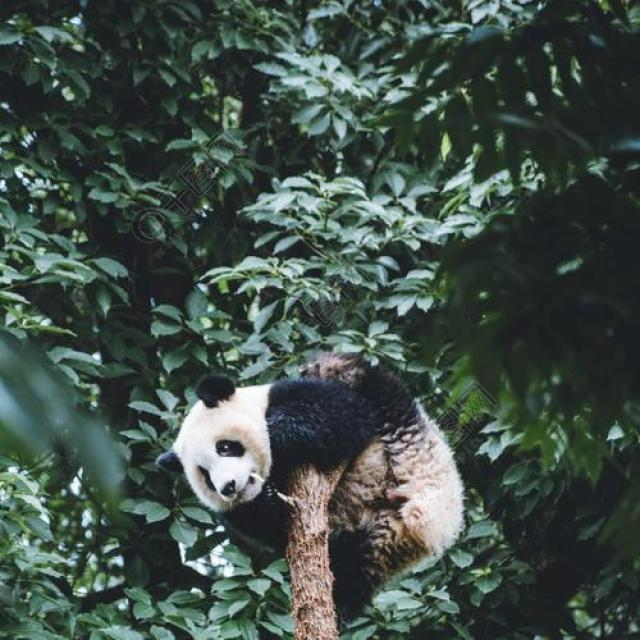panda: (151, 360, 514, 606)
